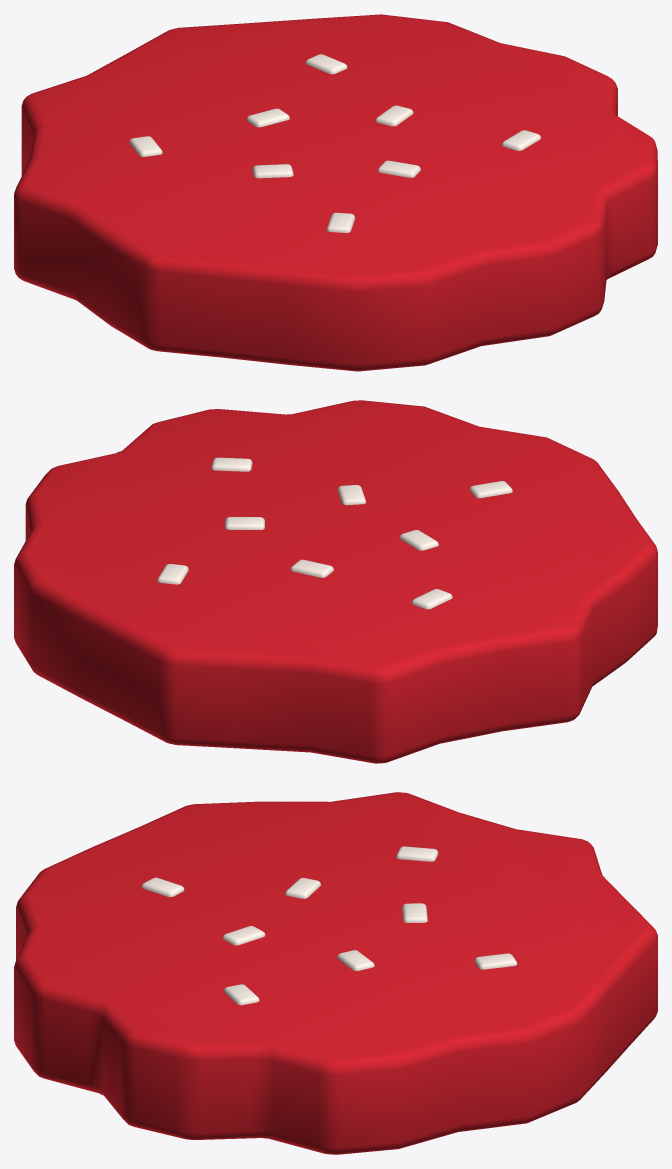
File: food_ingredient_burger_uncooked.gltf
The picture shows the model from 3 angles, top to bottom: view 1: azimuth 30°, elevation 25°; view 2: azimuth 150°, elevation 25°; view 3: azimuth 270°, elevation 25°; orthographic projection.
Parts seen in each view (by area): view 1: RawBurgerPatty; view 2: RawBurgerPatty; view 3: RawBurgerPatty.
Boxes of the visible parts, x1,y1,x2,y2 form: RawBurgerPatty: [14, 14, 657, 371]; RawBurgerPatty: [14, 400, 657, 763]; RawBurgerPatty: [14, 792, 657, 1154].
Size of the model in its own units: 0.4241 by 0.071 by 0.4176.
